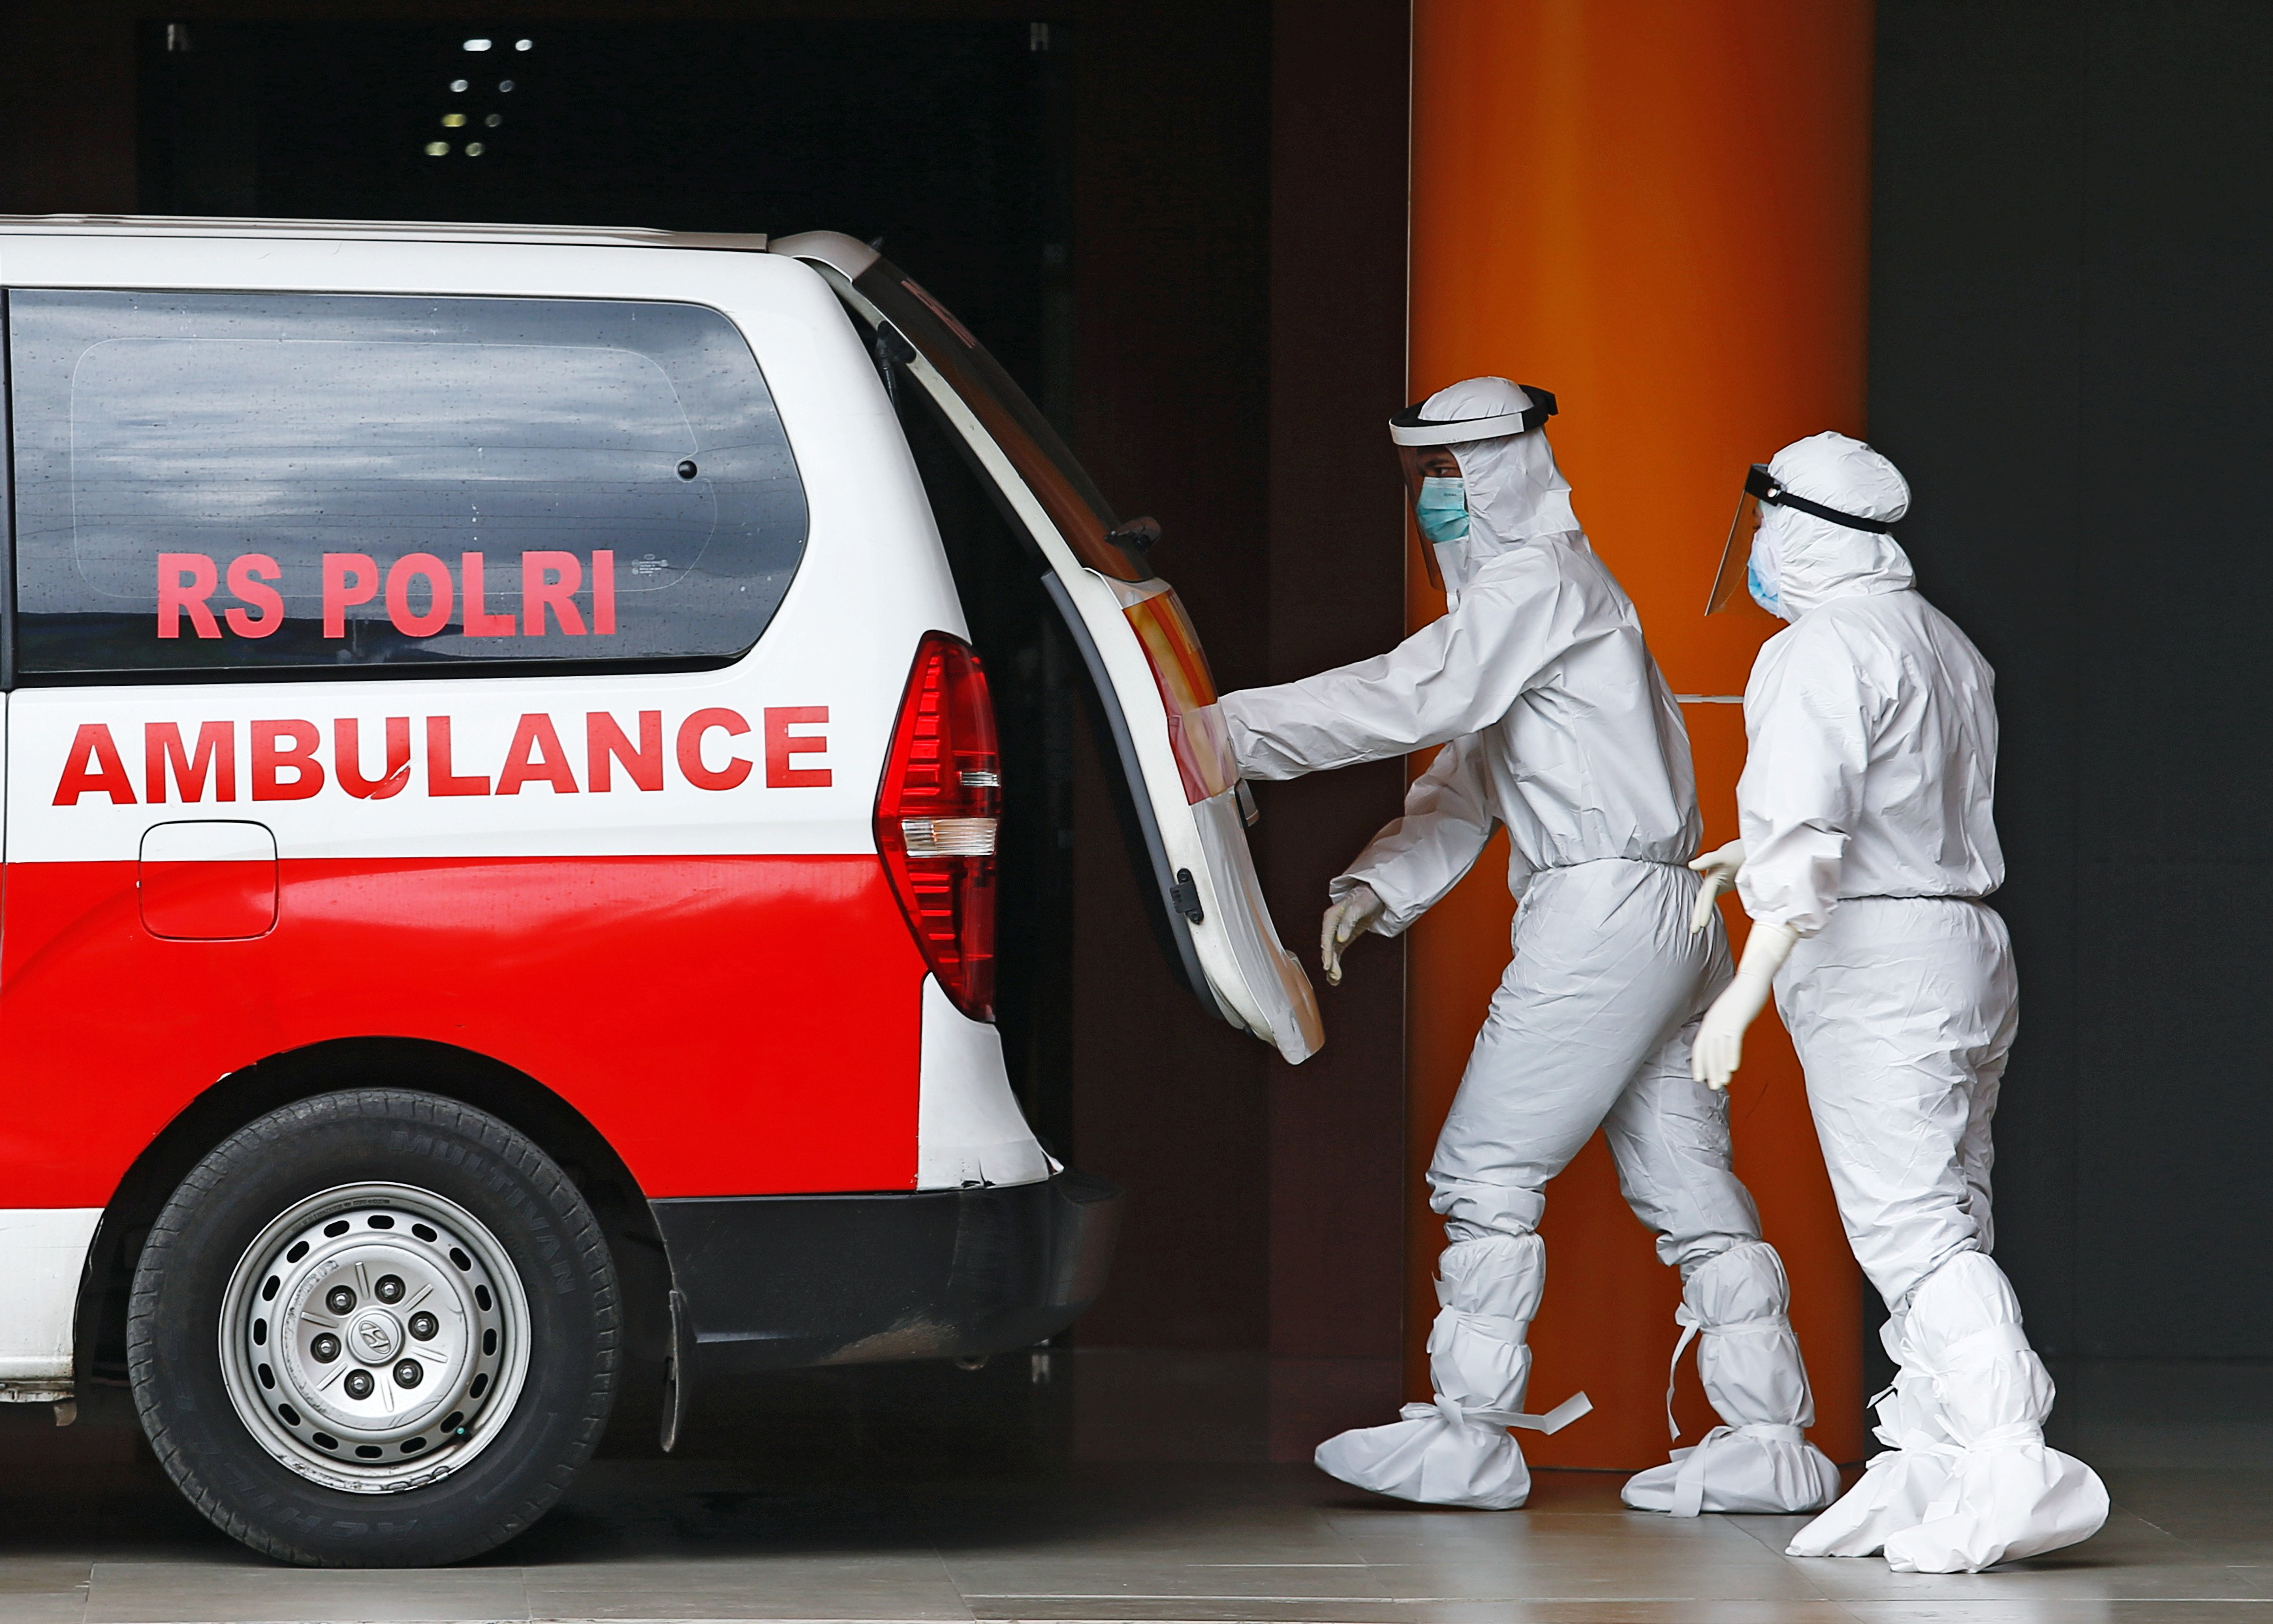Coverall: (1216, 369, 1849, 1522), (1734, 430, 2115, 1572)
Face_Shield: (1382, 407, 1550, 596), (1699, 463, 1892, 623)
Gloves: (1696, 920, 1799, 1093), (1317, 882, 1387, 990), (1688, 841, 1746, 935)
with_mask: (1738, 498, 1786, 636), (1402, 452, 1467, 548)
